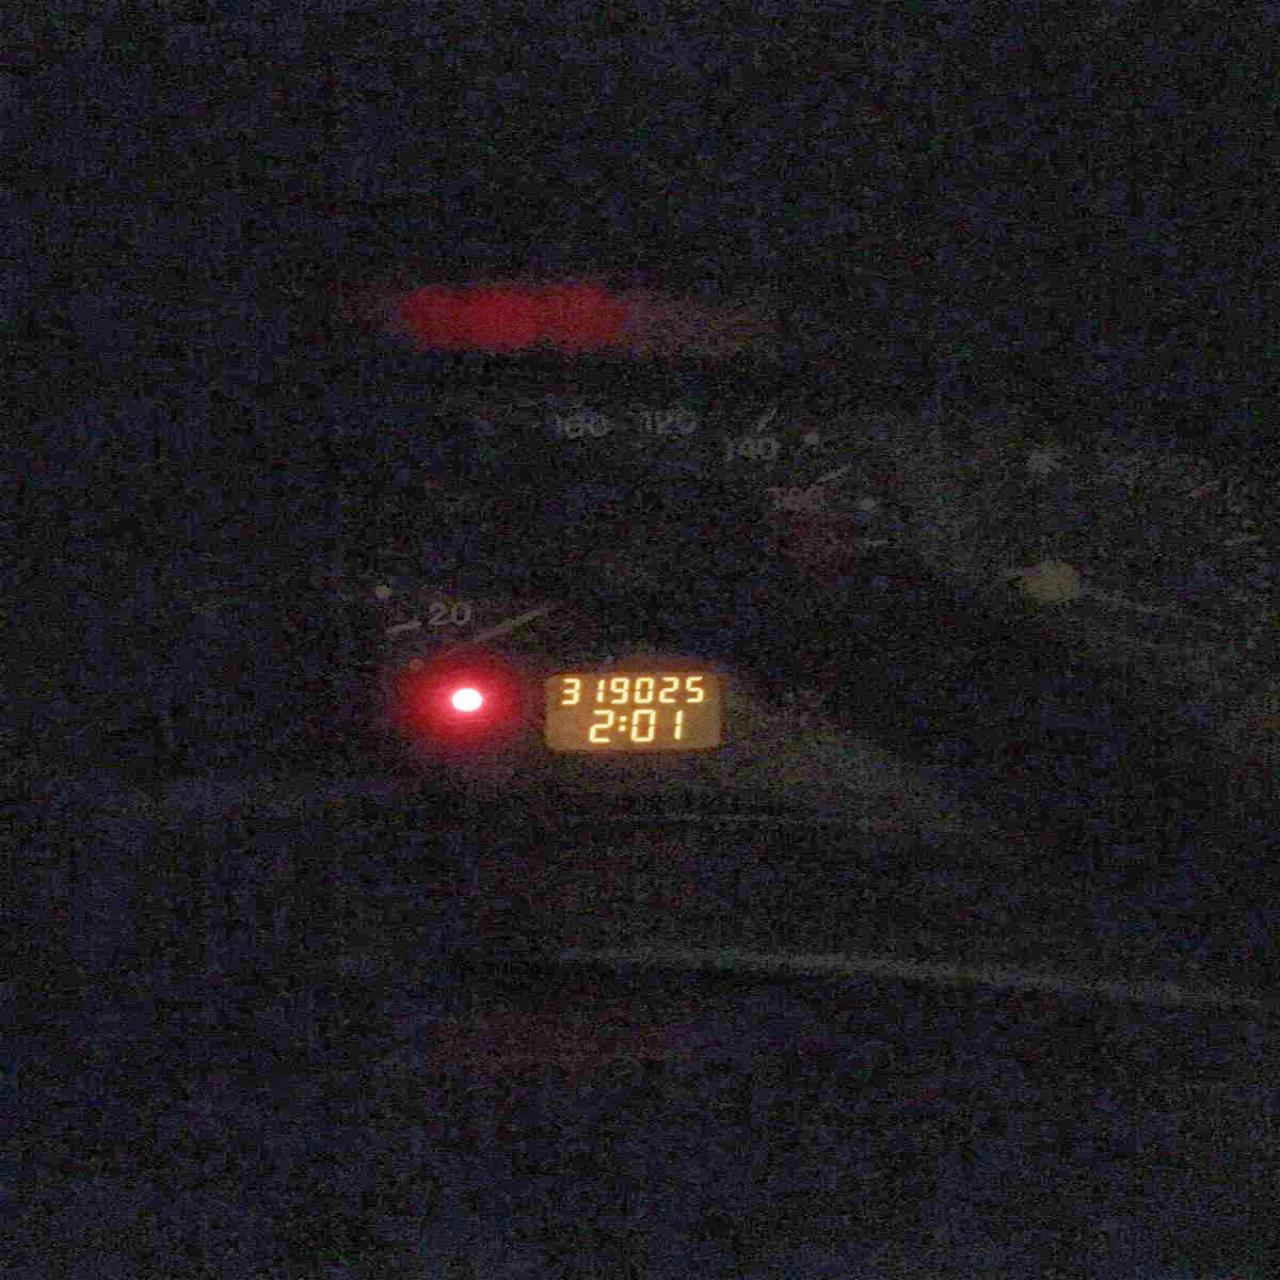0: (629, 708, 655, 742), (632, 676, 654, 703)
1: (673, 710, 682, 740), (595, 679, 604, 702)
2: (587, 709, 613, 742), (656, 675, 679, 702)
3: (560, 678, 579, 704)
5: (685, 675, 703, 702)
9: (607, 676, 628, 703)
X: (618, 715, 626, 731)
odometer: (539, 669, 727, 754)
